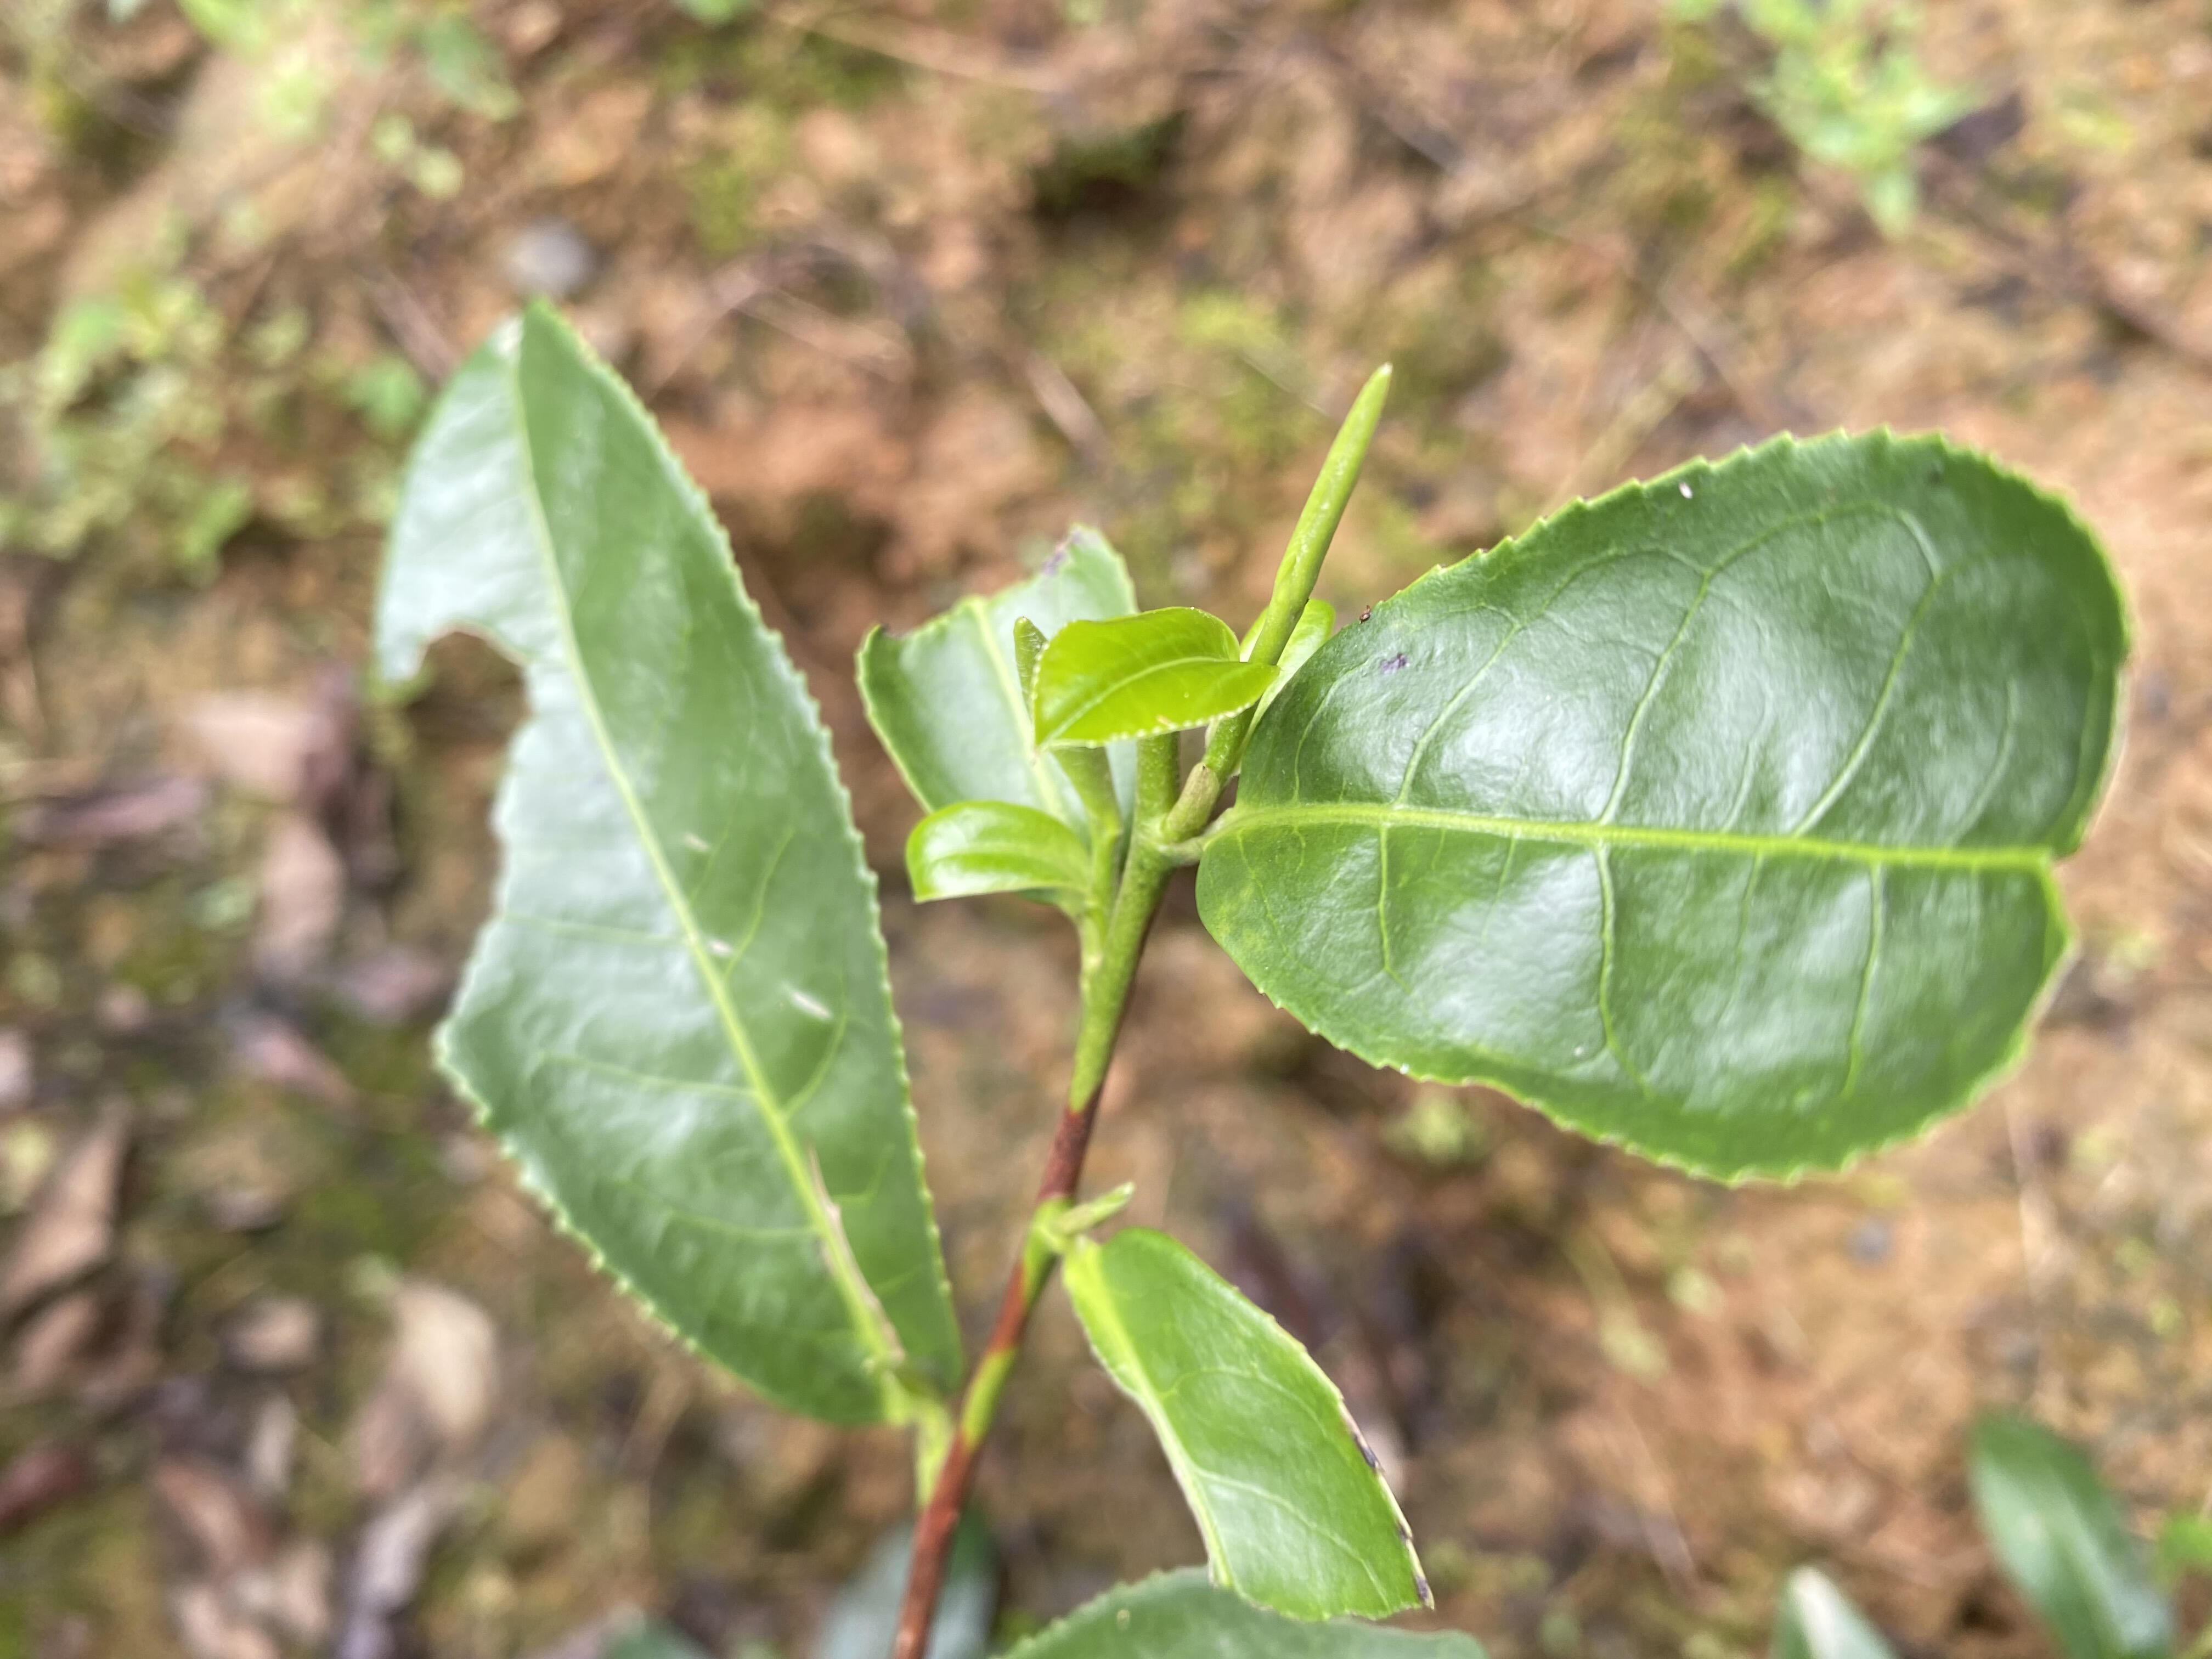chihuo_high: (1062, 1223, 1439, 1626), (852, 521, 1144, 847)
chihuo_low: (374, 300, 965, 1431)
healthy: (1031, 605, 1282, 756), (902, 800, 1089, 906)
tanju_low: (1197, 427, 2135, 1190)
